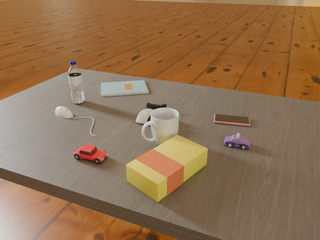book: (101, 80, 148, 96)
bottle: (68, 61, 85, 104)
box: (126, 135, 208, 202)
cup: (142, 108, 179, 145)
mouse: (136, 109, 153, 124), (55, 106, 73, 118)
phone: (214, 114, 250, 126)
toy_car: (74, 144, 108, 164), (224, 133, 250, 149)
